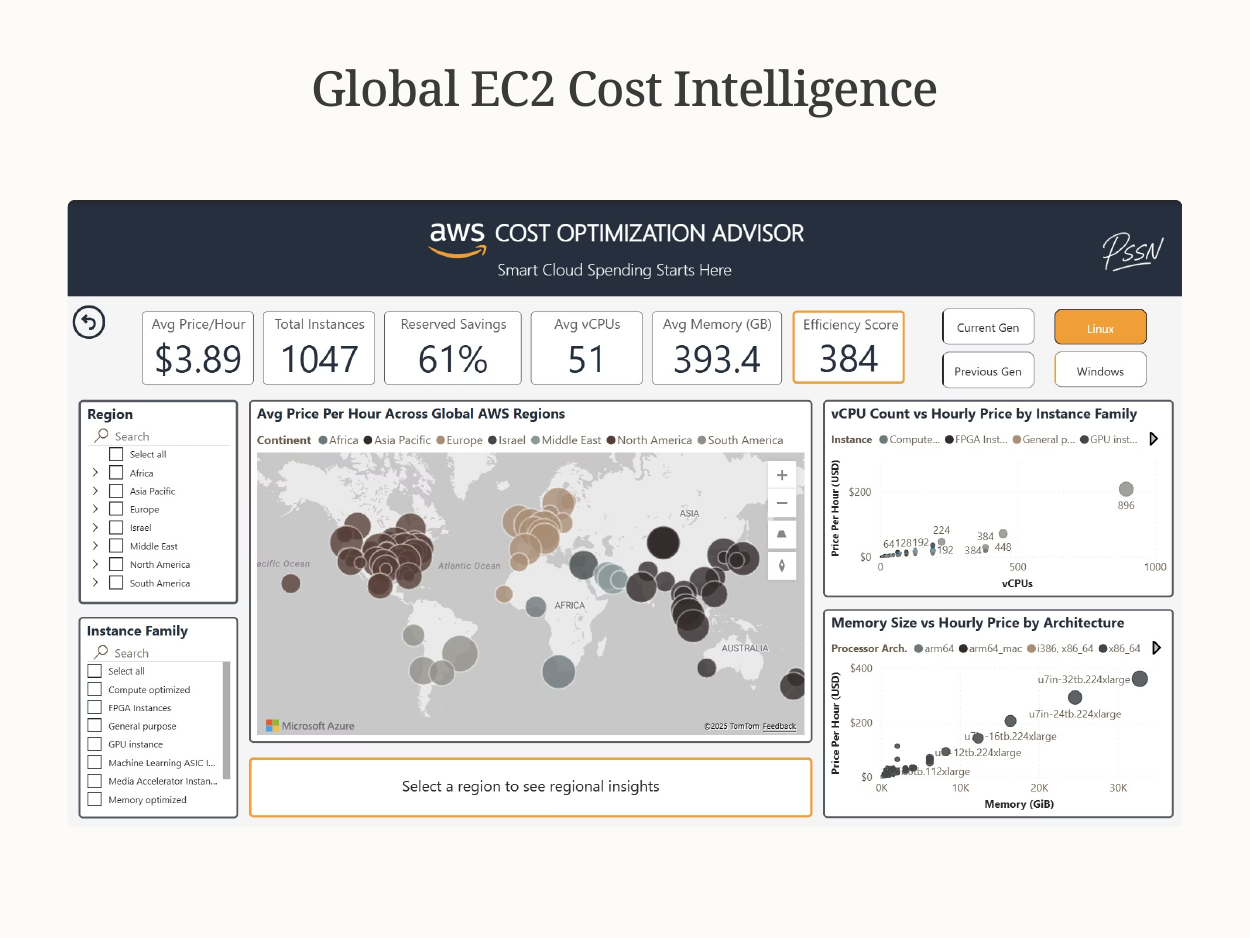

Layout of this report page (visuals, bound fields, positions):
{"tool":"powerbi","page":{"name":"Global EC2 Cost Intelligence","canvas":[1280,720],"ordinal":0},"visuals":[{"type":"shape","box":[0,0,1280.4,107.7],"z":0},{"type":"textbox","box":[426,10.4,441,57.7],"z":1000},{"type":"textbox","box":[488.6,58.4,302,38.1],"z":2000},{"type":"card","title":"Total Instances","fields":{"Values":["Dim_InstanceType.Total Instance Types"]},"box":[225.7,125.1,128.2,83.8],"z":3000},{"type":"card","title":"Reserved Savings","fields":{"Values":["Fact_Pricing.Reserved Savings % (Linux)"]},"box":[364.4,125.1,157.4,83.8],"z":4000},{"type":"card","title":"Avg vCPUs","fields":{"Values":["Dim_InstanceType.Avg vCPU"]},"box":[532.4,125.1,128.2,83.8],"z":5000},{"type":"card","title":"Avg Memory (GB)","fields":{"Values":["Dim_InstanceType.Avg Memory (GB)"]},"box":[671.1,125.1,148.5,83.8],"z":6000},{"type":"card","title":"Efficiency Score","fields":{"Values":["Dim_InstanceType.Cost Efficiency Score"]},"box":[832.3,124,128.4,83.8],"z":7000},{"type":"listSlicer","title":"Region","fields":{"Values":["Dim_Region.locationContinent","Dim_Region.locationName"]},"box":[14.1,226.3,182.8,233.9],"z":8000},{"type":"listSlicer","title":"Instance Family","fields":{"Values":["Dim_InstanceFamily.instanceFamilyName"]},"box":[14.1,474.3,182.8,230.6],"z":9000},{"type":"card","title":"Avg Price/Hour","fields":{"Values":["Fact_Pricing.Avg Linux Price Per Hour (On-Demand)"]},"box":[86.9,125.1,128.2,83.8],"z":10000},{"type":"scatterChart","title":"vCPU Count vs Hourly Price by Instance Family","fields":{"Y":["Fact_Pricing.Avg Linux Price Per Hour (On-Demand)"],"Series":["Dim_InstanceFamily.instanceFamilyName"],"Size":["Dim_InstanceType.Avg Memory (GB)"],"X":["Dim_InstanceType.vCpus"]},"box":[867,226.3,401.4,226.3],"z":11000},{"type":"scatterChart","title":"Memory Size vs Hourly Price by Architecture","fields":{"Y":["Fact_Pricing.Avg Linux Price Per Hour (On-Demand)"],"Category":["Dim_InstanceType.instanceType"],"X":["Avg(Dim_InstanceType.memorySizeInGiB)"],"Series":["Dim_Architecture.processorArchitectures"],"Size":["Dim_InstanceType.Avg Memory (GB)"]},"box":[867,465.6,401.4,239.3],"z":12000},{"type":"image","box":[391.6,2.2,113.1,77.2],"z":13000},{"type":"azureMap","title":"Avg Price Per Hour Across Global AWS Regions","fields":{"Size":["Fact_Pricing.Avg Linux Price Per Hour (On-Demand)"],"Category":["Dim_Region.locationName"],"Series":["Dim_Region.locationContinent"]},"box":[209.4,226.6,645.3,392.9],"z":14000},{"type":"advancedSlicerVisual","title":"Current Gen","fields":{"Values":["Dim_InstanceType.currentGeneration"]},"box":[997.5,115.3,116.4,103.3],"z":15000},{"type":"actionButton","box":[7,117.2,37.5,38.7],"z":18000},{"type":"card","fields":{"Values":["Fact_Pricing.Dynamic Regional Insight"]},"box":[209.4,635.5,645.3,69],"z":19000},{"type":"image","box":[1165.1,0,114.5,115.8],"z":20000},{"type":"advancedSlicerVisual","fields":{"Values":["Parameter.Parameter"]},"box":[1126.7,116.6,116.6,101.8],"z":21000}]}

Visuals, with their boxes on the page's 1280x720 design canvas (x1, y1, x2, y2). These are canvas units, not pixel positions in the 1250x938 screenshot, which may show the page scaled, cropped or inside an application window:
shape: 0 0 1280 108
textbox: 426 10 867 68
textbox: 489 58 791 96
"Total Instances" card: 226 125 354 209
"Reserved Savings" card: 364 125 522 209
"Avg vCPUs" card: 532 125 661 209
"Avg Memory (GB)" card: 671 125 820 209
"Efficiency Score" card: 832 124 961 208
"Region" listSlicer: 14 226 197 460
"Instance Family" listSlicer: 14 474 197 705
"Avg Price/Hour" card: 87 125 215 209
"vCPU Count vs Hourly Price by Instance Family" scatterChart: 867 226 1268 453
"Memory Size vs Hourly Price by Architecture" scatterChart: 867 466 1268 705
image: 392 2 505 79
"Avg Price Per Hour Across Global AWS Regions" azureMap: 209 227 855 620
"Current Gen" advancedSlicerVisual: 998 115 1114 219
actionButton: 7 117 44 156
card - Fact_Pricing.Dynamic Regional Insight: 209 636 855 704
image: 1165 0 1280 116
advancedSlicerVisual - Parameter.Parameter: 1127 117 1243 218
